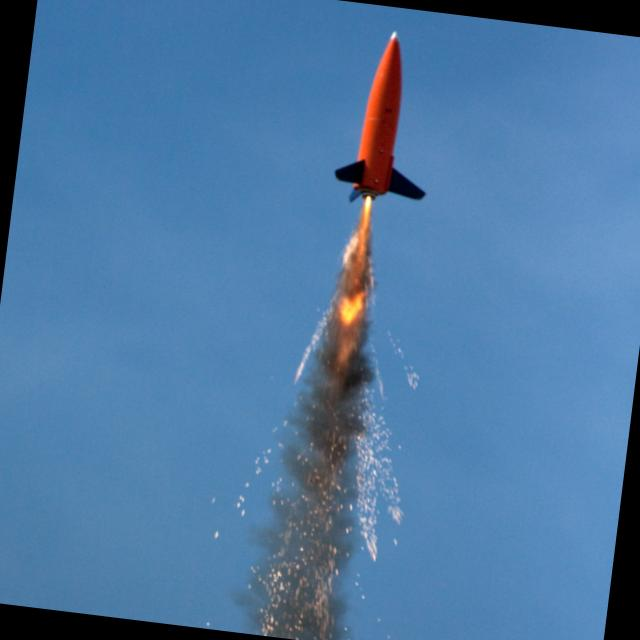rocket: (297, 25, 444, 446)
